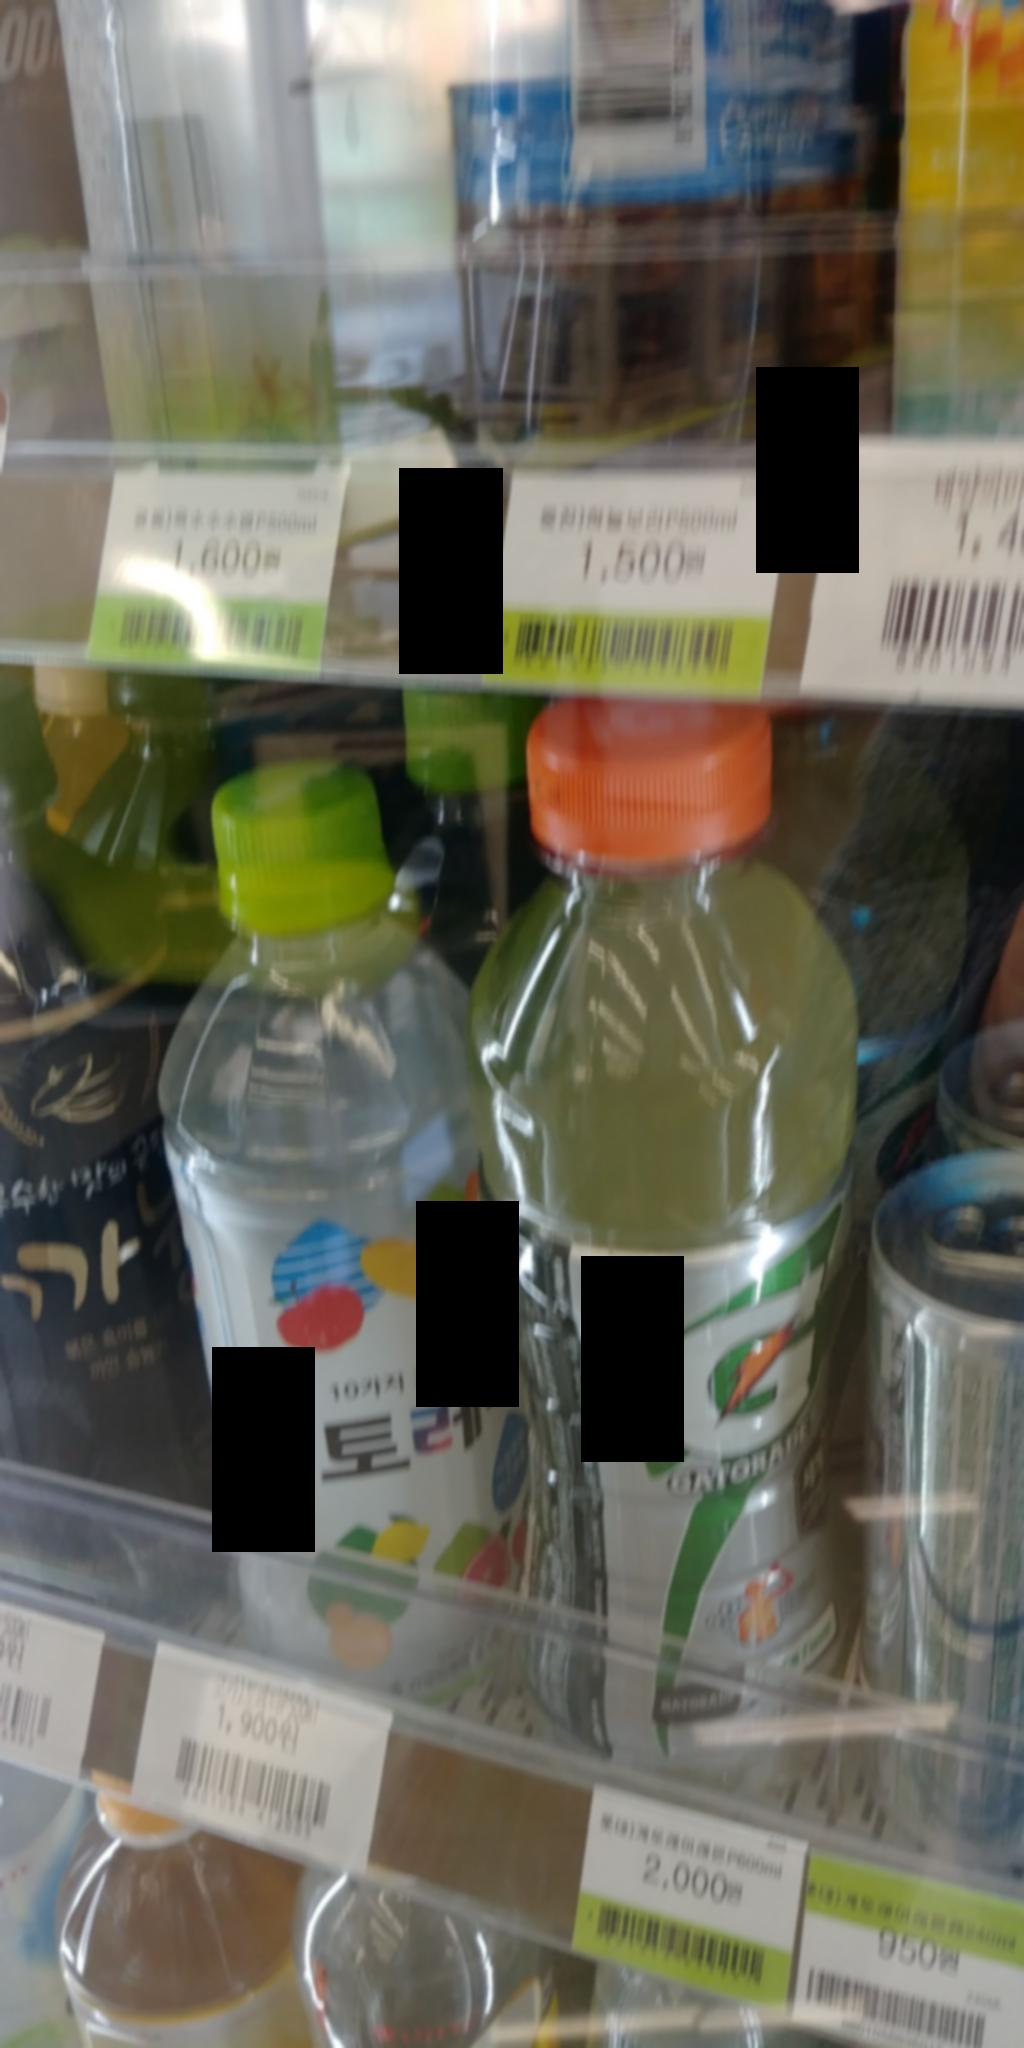gatorade_lemon: (452, 670, 870, 1765)
toreta: (168, 760, 543, 1684)
